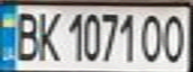0: (81, 9, 103, 62)
1: (63, 9, 84, 62), (118, 10, 139, 63)
7: (100, 9, 121, 62)
B: (9, 8, 42, 62)
K: (33, 8, 63, 63)
O: (157, 11, 190, 64), (139, 10, 169, 63)
